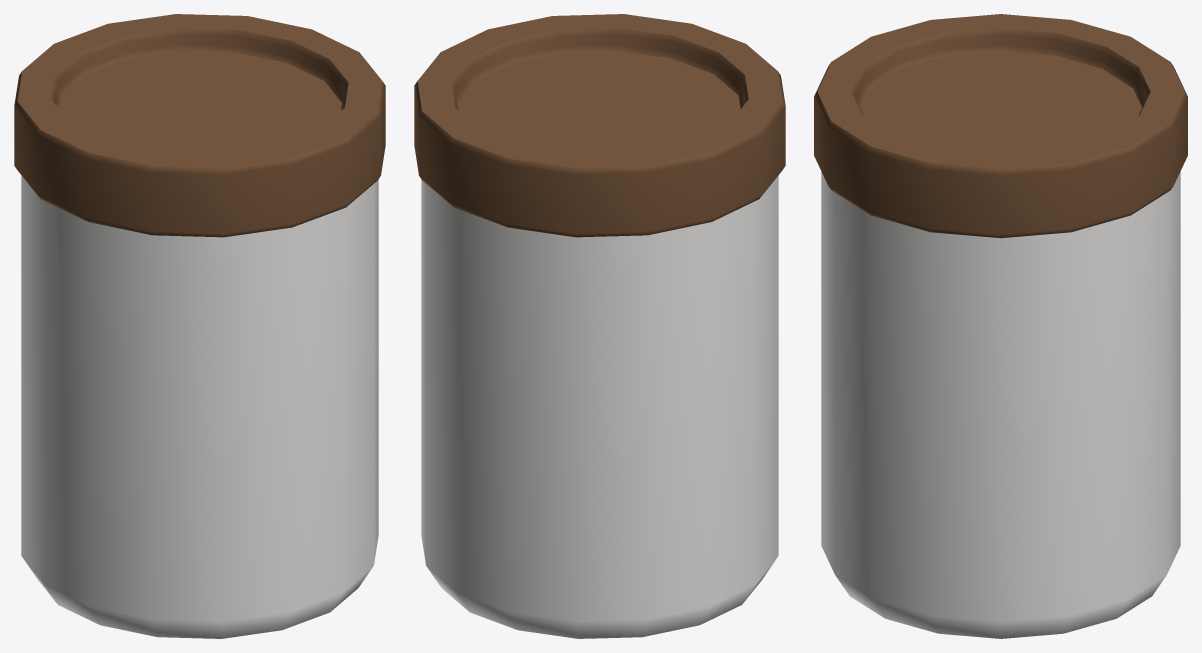
File: Jar_7.glb
3 renders of one model, left to right at view 1: azimuth 30°, elevation 25°; view 2: azimuth 150°, elevation 25°; view 3: azimuth 270°, elevation 25°, orthographic.
Parts seen in each view (by area): view 1: Jar_7; view 2: Jar_7; view 3: Jar_7.
Part boxes in pixels (x1=…): Jar_7: x1=14, y1=14, x2=385, y2=638; Jar_7: x1=414, y1=14, x2=785, y2=638; Jar_7: x1=814, y1=14, x2=1187, y2=638.
Size of the model in its own units: 0.214 by 0.3019 by 0.214.
2 materials, 2 textured.
